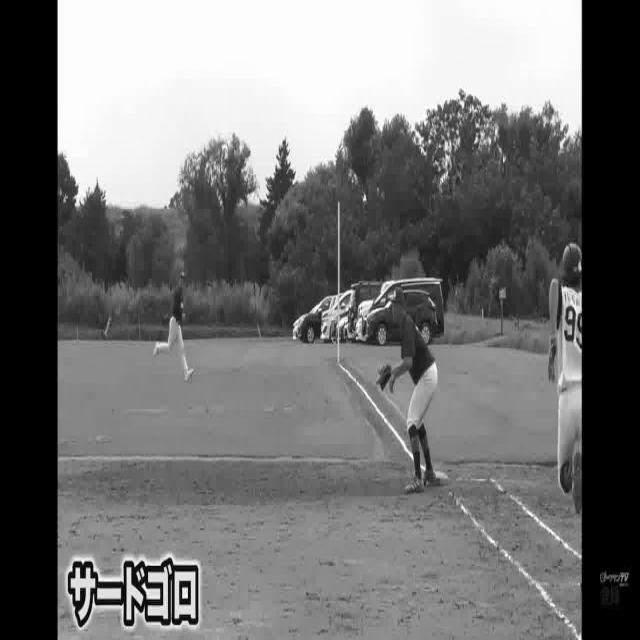base: (423, 470, 451, 490)
baseball_glove: (374, 353, 398, 397)
shoe: (568, 451, 586, 507), (404, 476, 425, 500), (422, 467, 438, 490)
